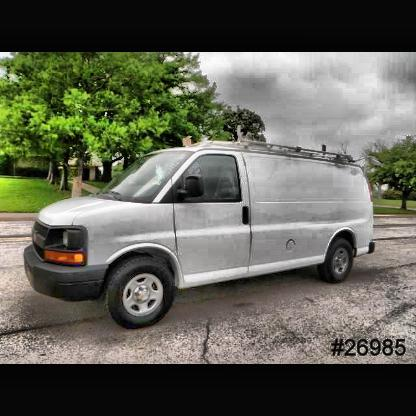Chevrolet Express Cargo Van 2007: (20, 124, 376, 332)
